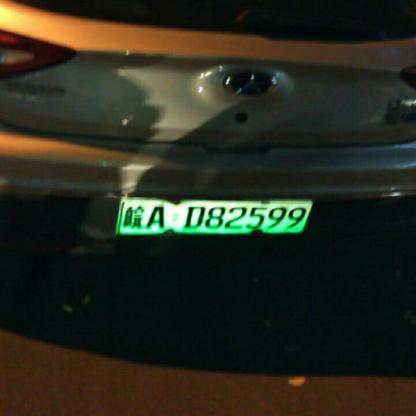lp: (119, 200, 313, 233)
